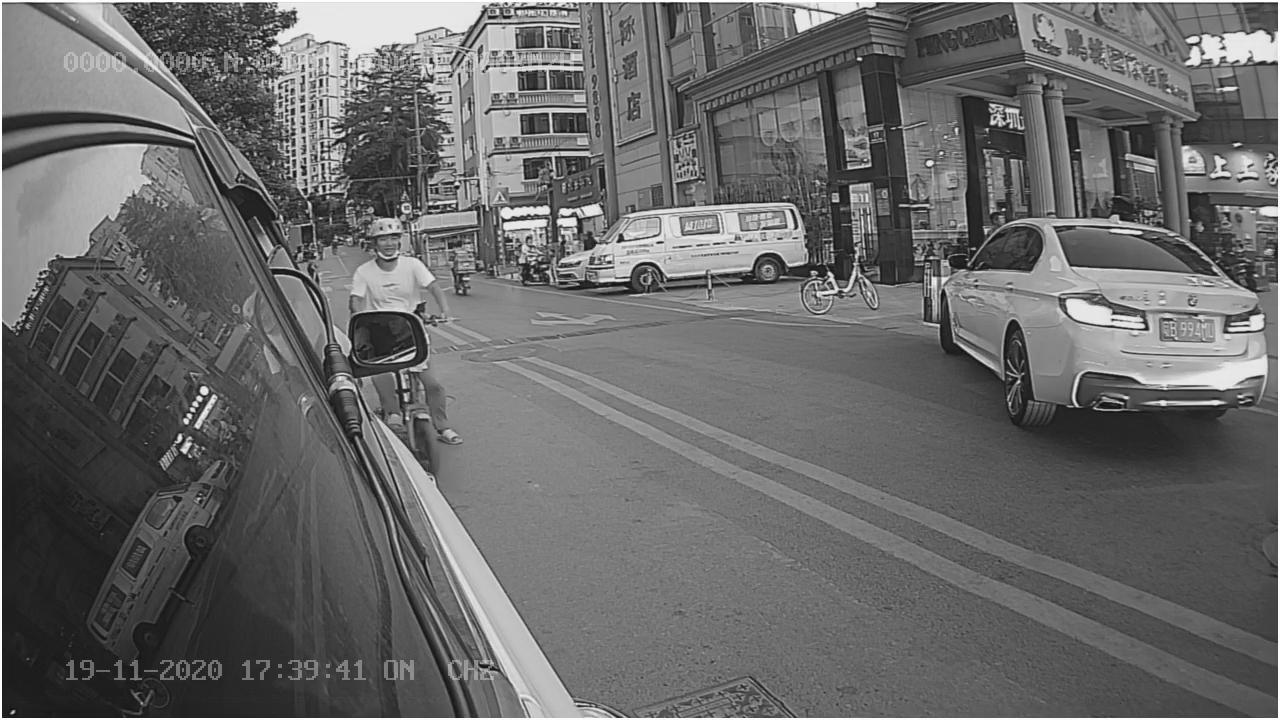person: (345, 213, 442, 308)
